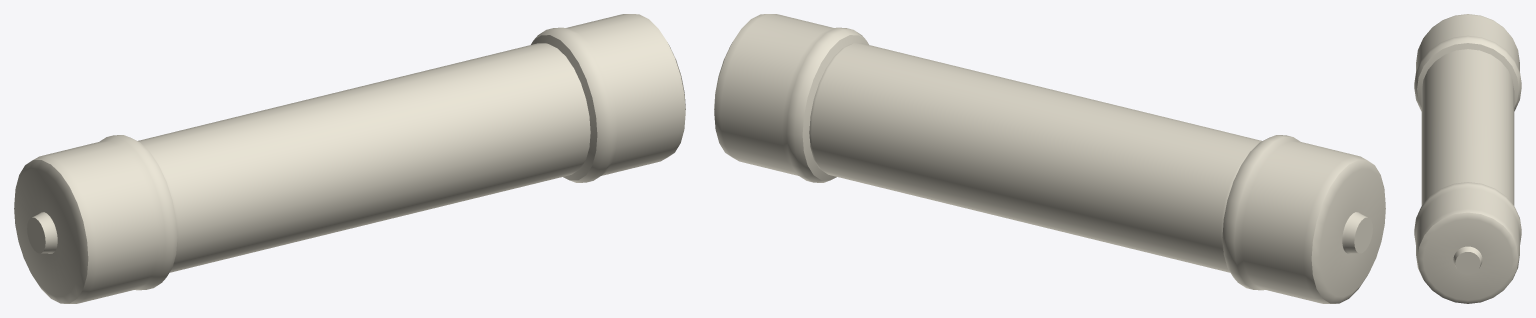
File: item_fuse.glb
3 renders of one model, left to right at view 1: azimuth 30°, elevation 25°; view 2: azimuth 150°, elevation 25°; view 3: azimuth 270°, elevation 25°, orthographic. The views are drawn at different scales.
Visible parts, largest first — view 1: sicherung; view 2: sicherung; view 3: sicherung.
Boxes of the visible parts, box(x1,y1,x2,y2) form: sicherung: box(14, 14, 685, 303); sicherung: box(714, 14, 1385, 303); sicherung: box(1414, 14, 1521, 303).
Size of the model in its own units: 0.176 by 0.0384 by 0.0384.
